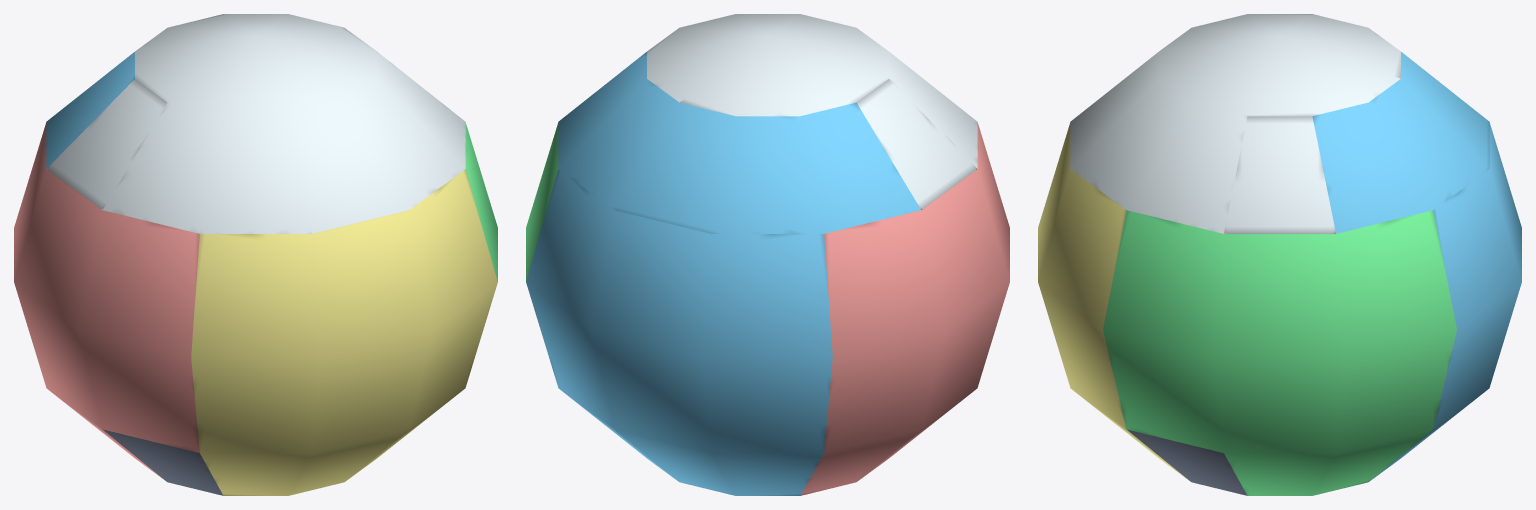
The model's file is head.obj.
3 views of the same model, side by side, from view 1: azimuth 30°, elevation 25°; view 2: azimuth 150°, elevation 25°; view 3: azimuth 270°, elevation 25° (orthographic).
Visible parts, largest first — view 1: sphere; view 2: sphere; view 3: sphere.
Boxes of the visible parts, box(x1,y1,x2,y2) form: sphere: box(14, 14, 497, 495); sphere: box(526, 14, 1009, 495); sphere: box(1038, 14, 1521, 495).
Size of the model in its own units: 1 by 1 by 1.
1 material, 1 textured.
